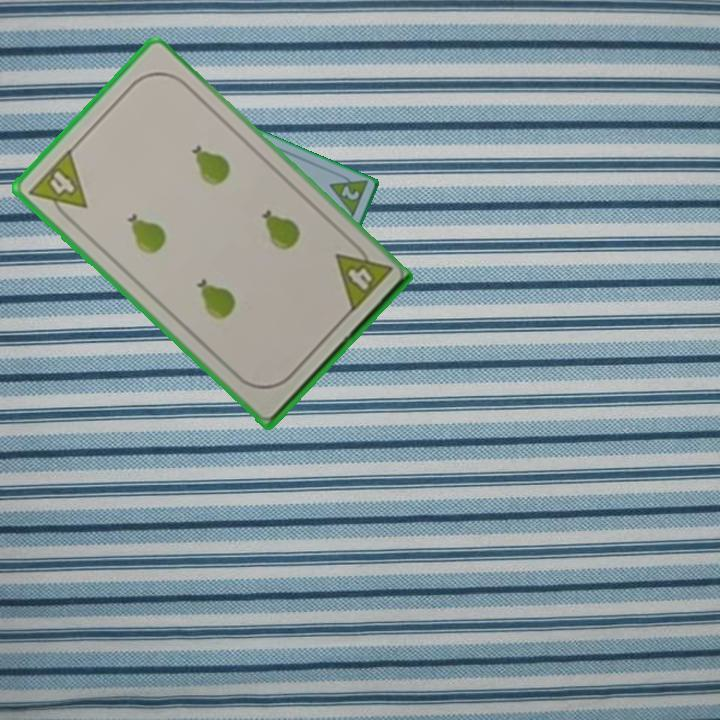2p: (337, 182, 362, 203)
4p: (25, 145, 90, 226), (331, 236, 394, 316)
